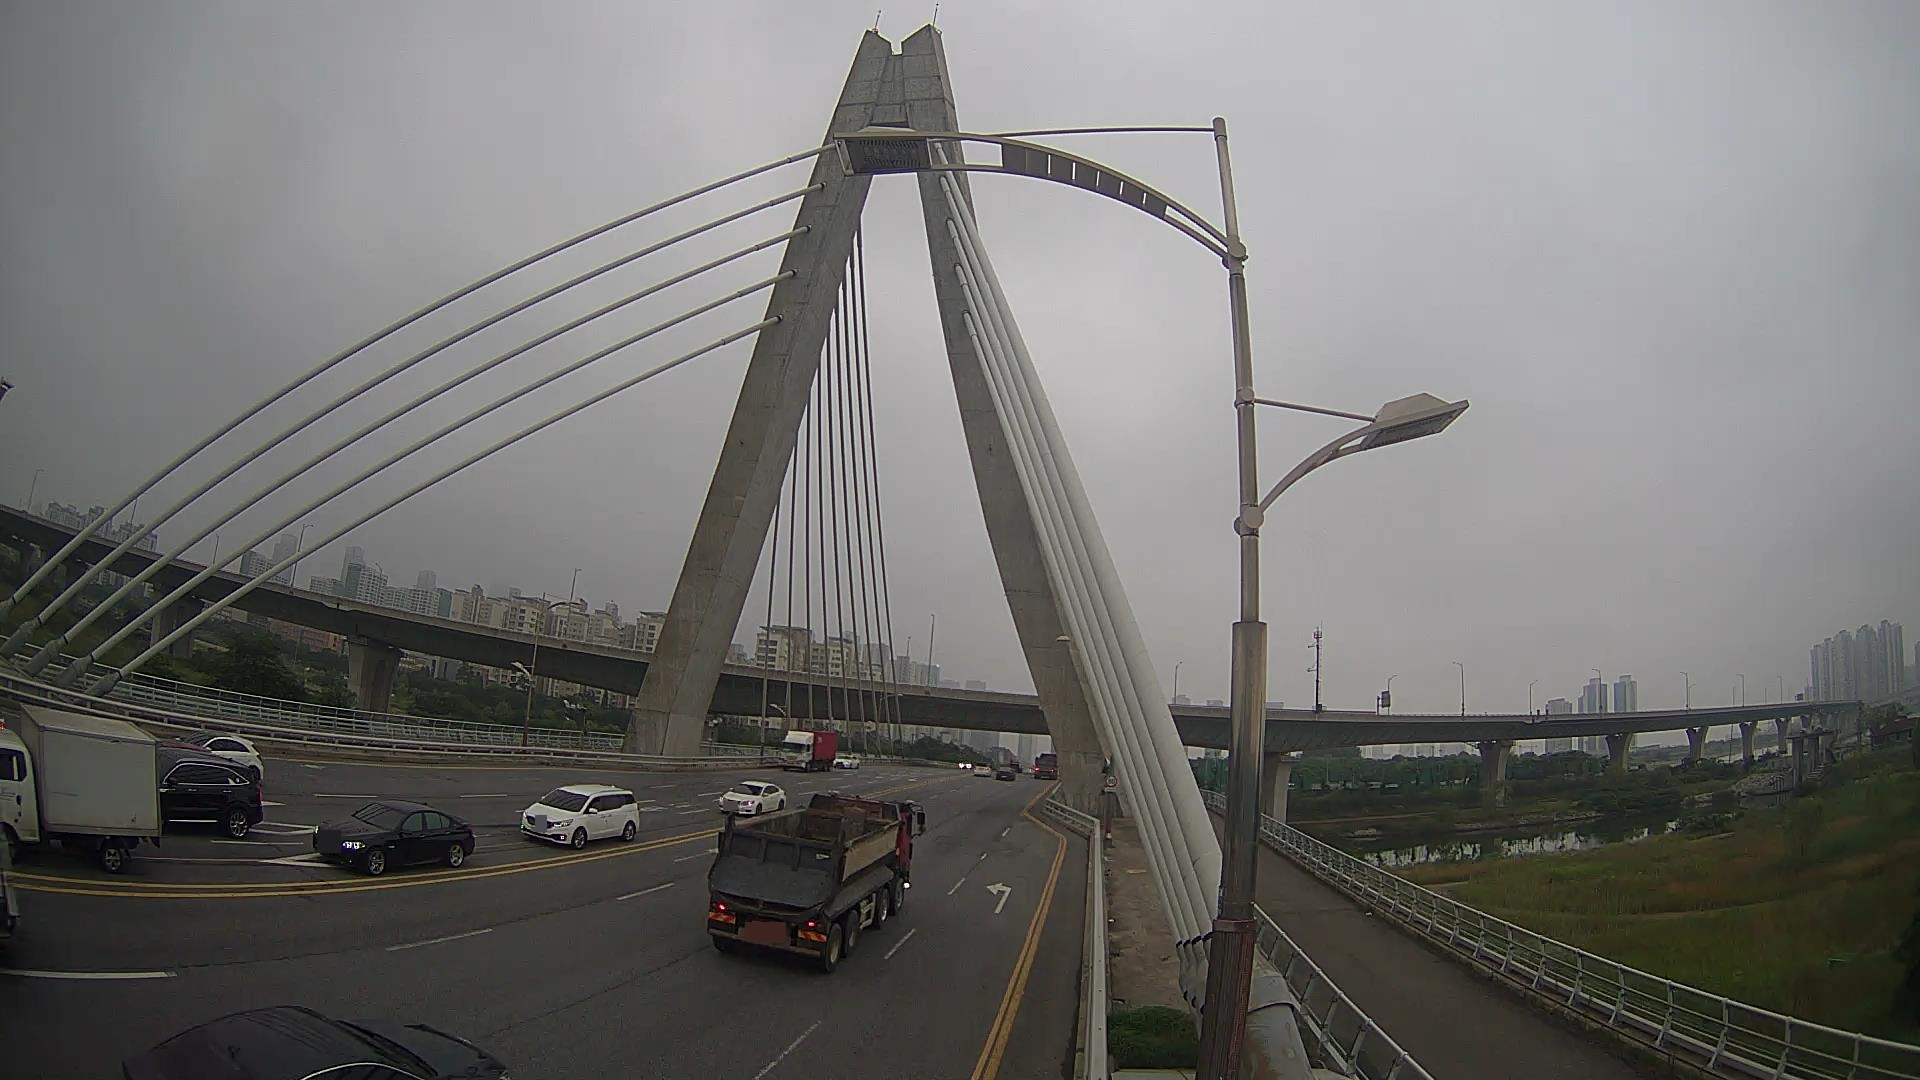정상차량: (707, 790, 926, 976)
